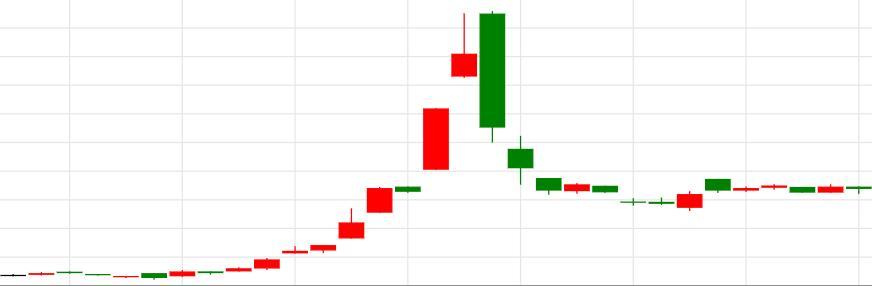bearish_engulfing_fall: (140, 10, 506, 280)
